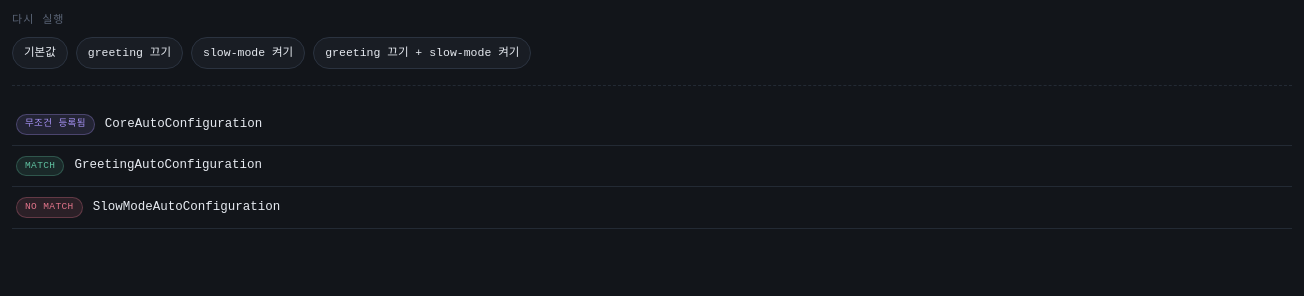
it: ConditionReportPanel › renders unconditional beans and match/no-match sources once a report arrives
Check: the text "무조건 등록됨" is shown, box [16,114,95,135]
Check: the text "CoreAutoConfiguration" is shown, box [105,114,262,134]
Click the text "GreetingAutoConfiguration": x=168, y=166 [74,156,262,176]
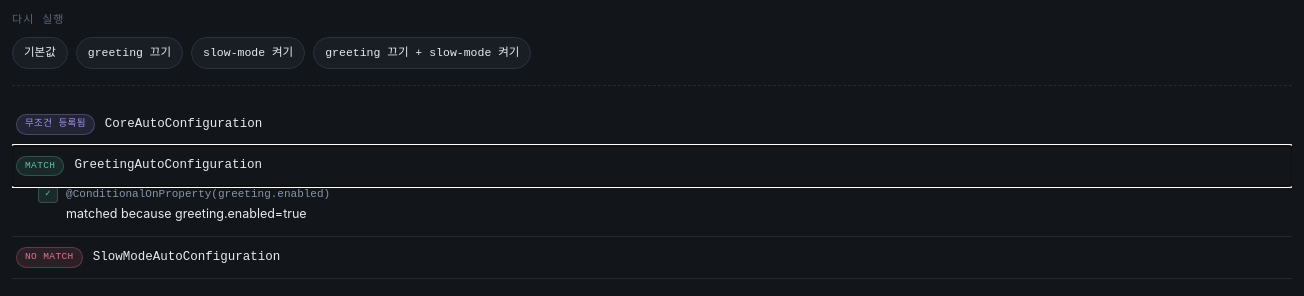
Check: the text "matched because greeting.enabled=true" is shown, box [66,205,330,224]
